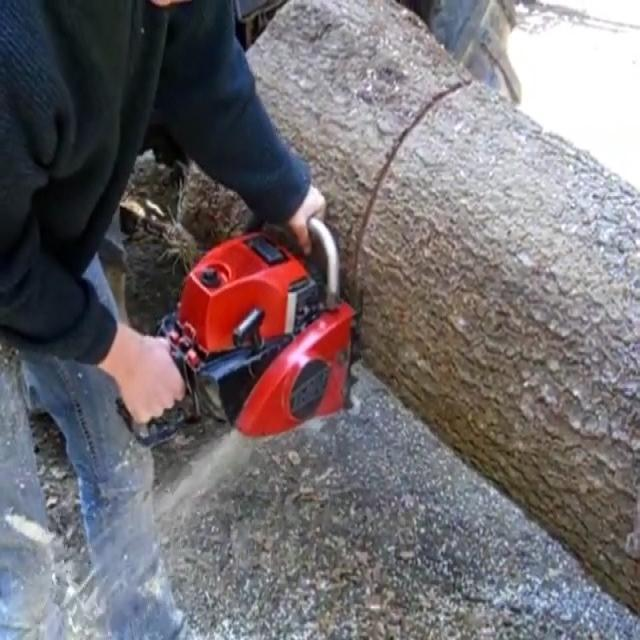Chainsaw: (95, 188, 386, 448)
